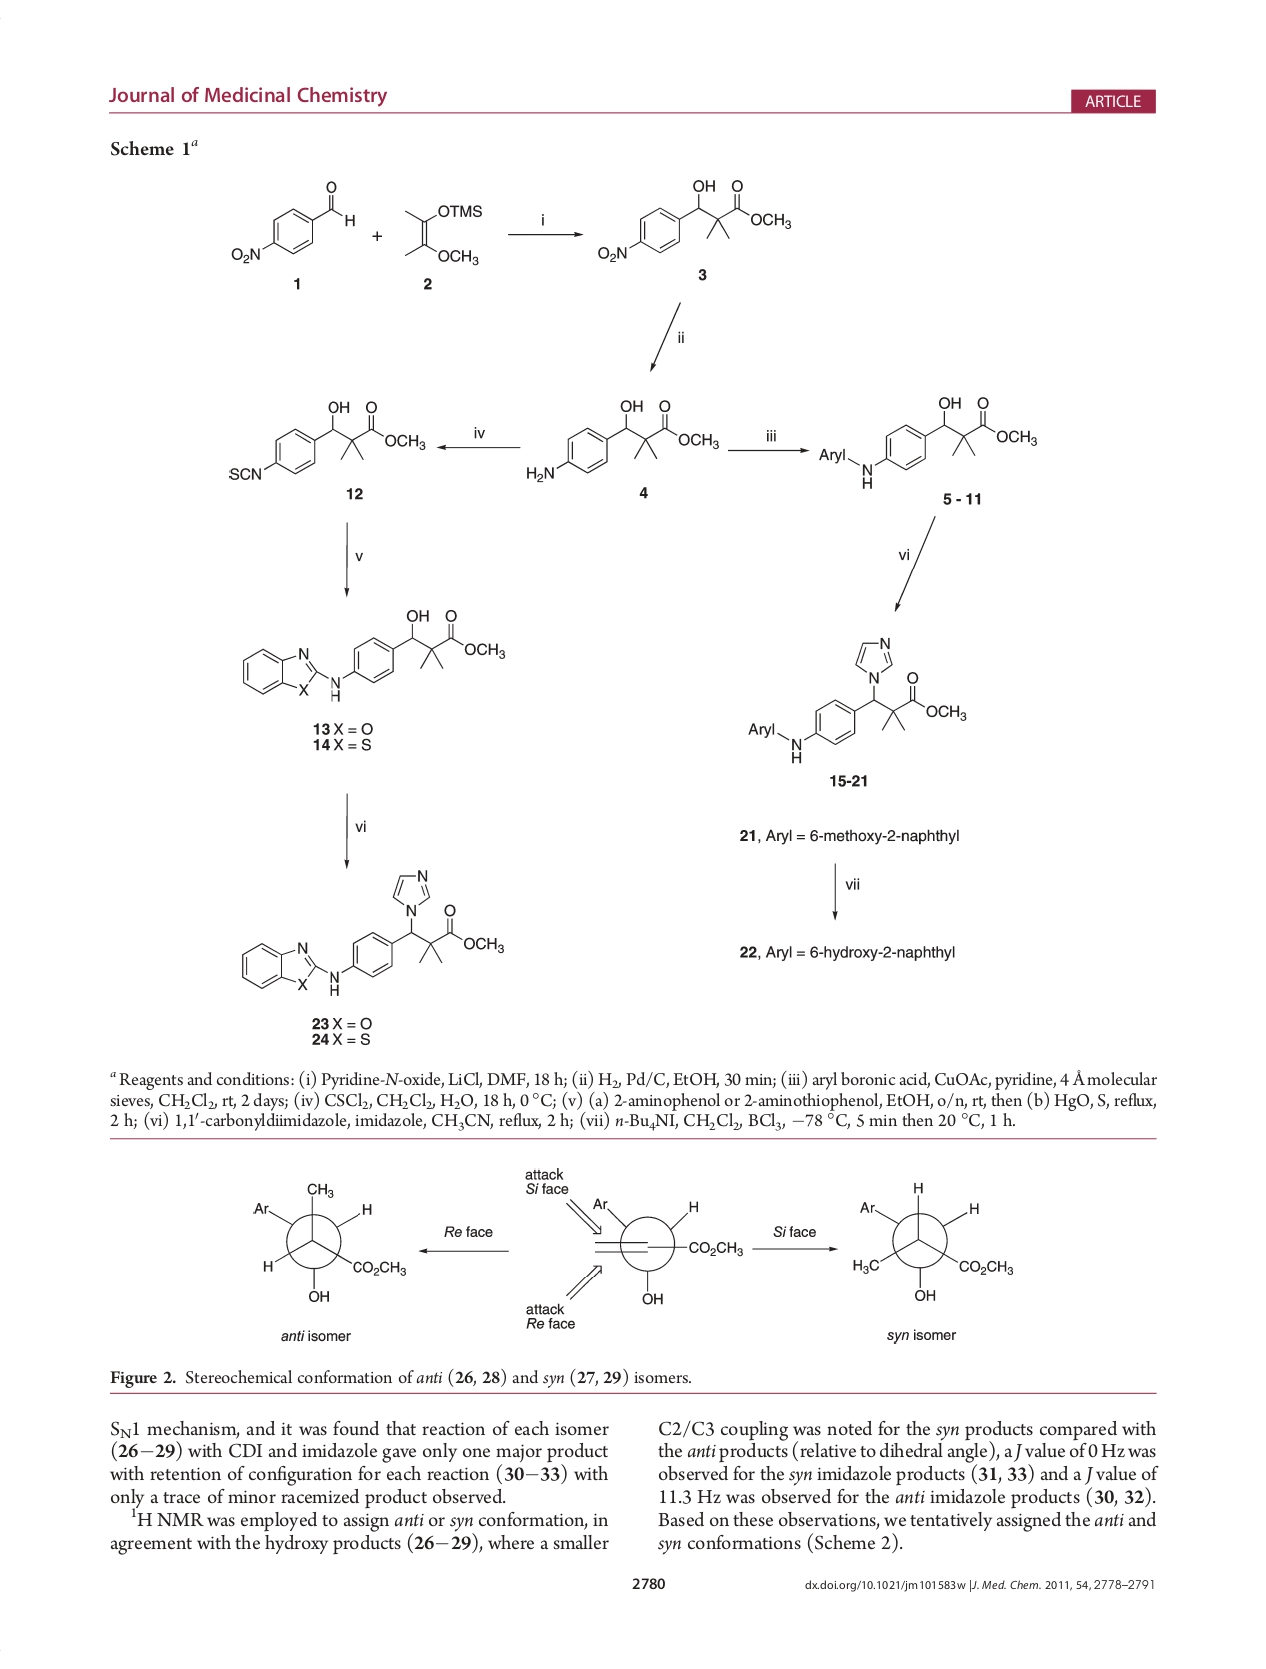exist_molecular: (235, 866, 507, 1001), (741, 632, 975, 763), (238, 605, 508, 702), (239, 1174, 412, 1305), (848, 1174, 1020, 1303), (817, 394, 1043, 489), (586, 1192, 745, 1307), (594, 176, 793, 263), (225, 398, 426, 483), (525, 398, 719, 483), (226, 177, 362, 266), (402, 199, 483, 270)
